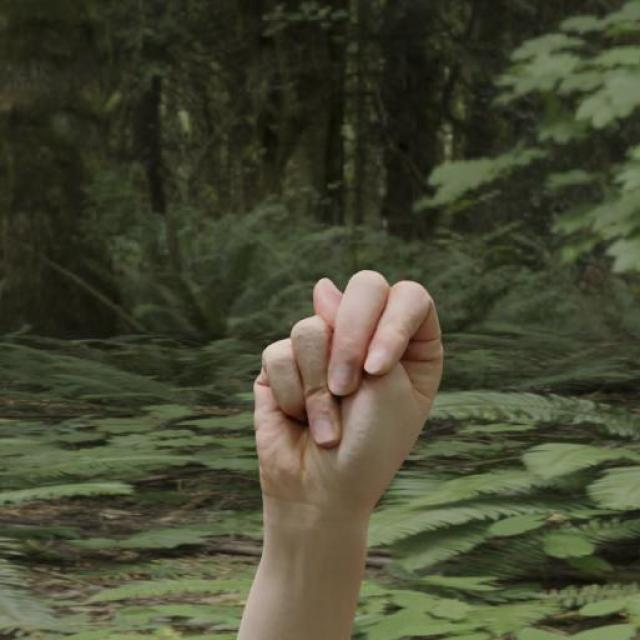N: (248, 266, 451, 520)
